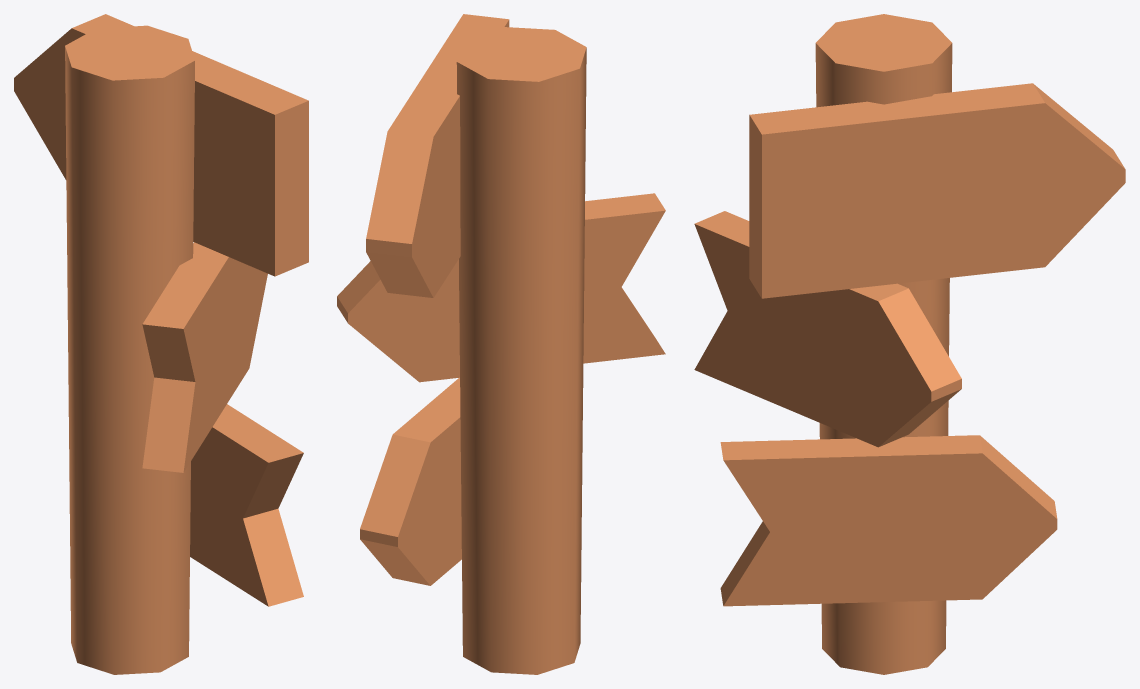
Rendered from Sign_B.fbx.
3 views of the same model, side by side, from view 1: azimuth 30°, elevation 25°; view 2: azimuth 150°, elevation 25°; view 3: azimuth 270°, elevation 25° (orthographic).
Visible parts, largest first — view 1: Sign_B; view 2: Sign_B; view 3: Sign_B.
Part boxes in pixels (x1,y1,x2,y2): Sign_B: (14,14,308,674); Sign_B: (337,14,665,674); Sign_B: (694,14,1125,674).
Bounding box in the file's own units: 73.59 × 184 × 119.
